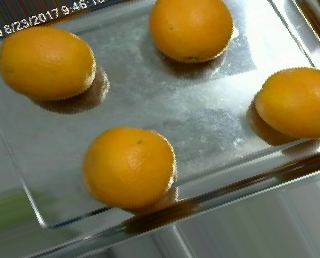Orange: (84, 126, 176, 208), (1, 26, 95, 101), (149, 1, 233, 63), (255, 67, 320, 139)
